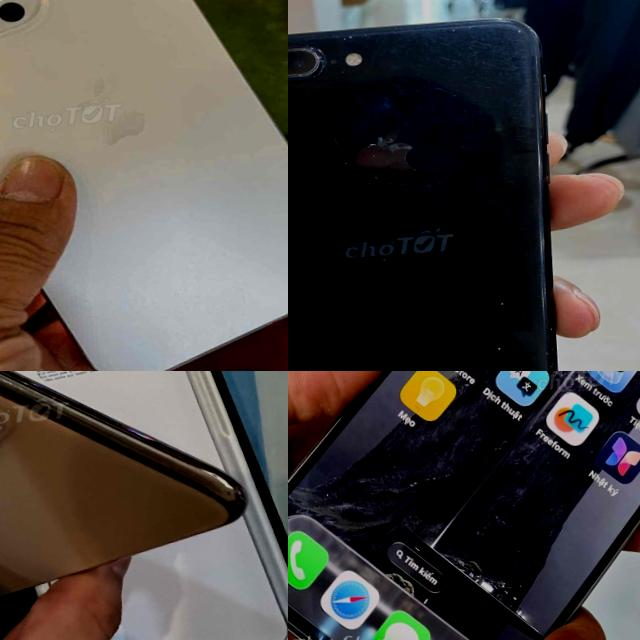gen_11: (0, 371, 257, 624)
gen_15: (0, 0, 288, 371), (288, 371, 640, 640)
gen_7_8: (288, 7, 580, 371)
